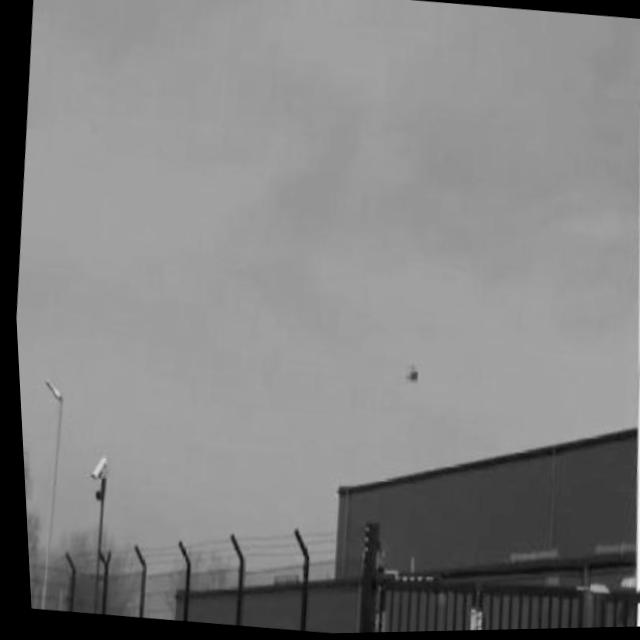helikopter: (397, 358, 419, 389)
